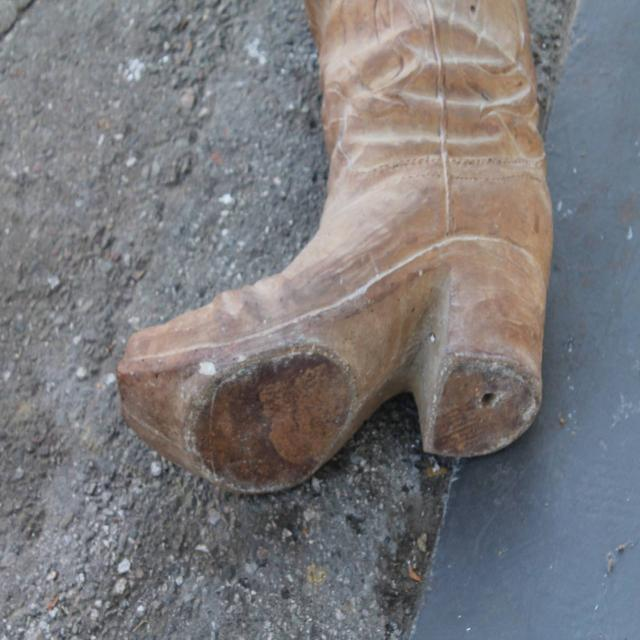boot: (102, 176, 576, 483)
